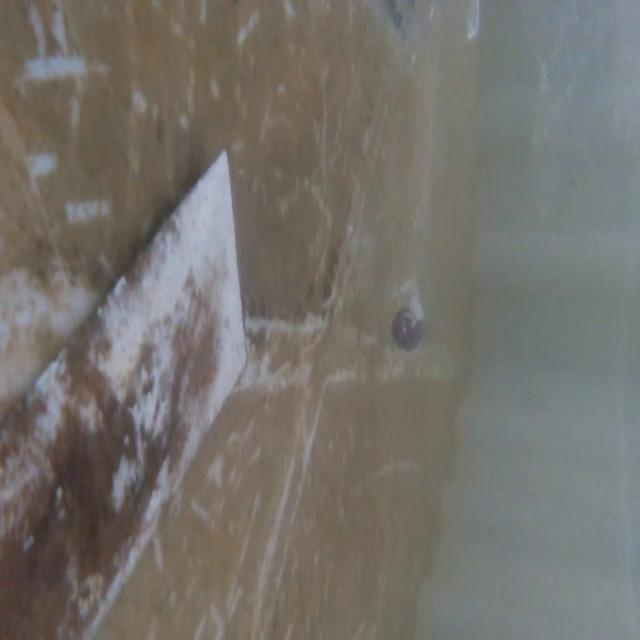metal: (0, 146, 242, 640)
plastic bottle: (326, 80, 448, 379)
